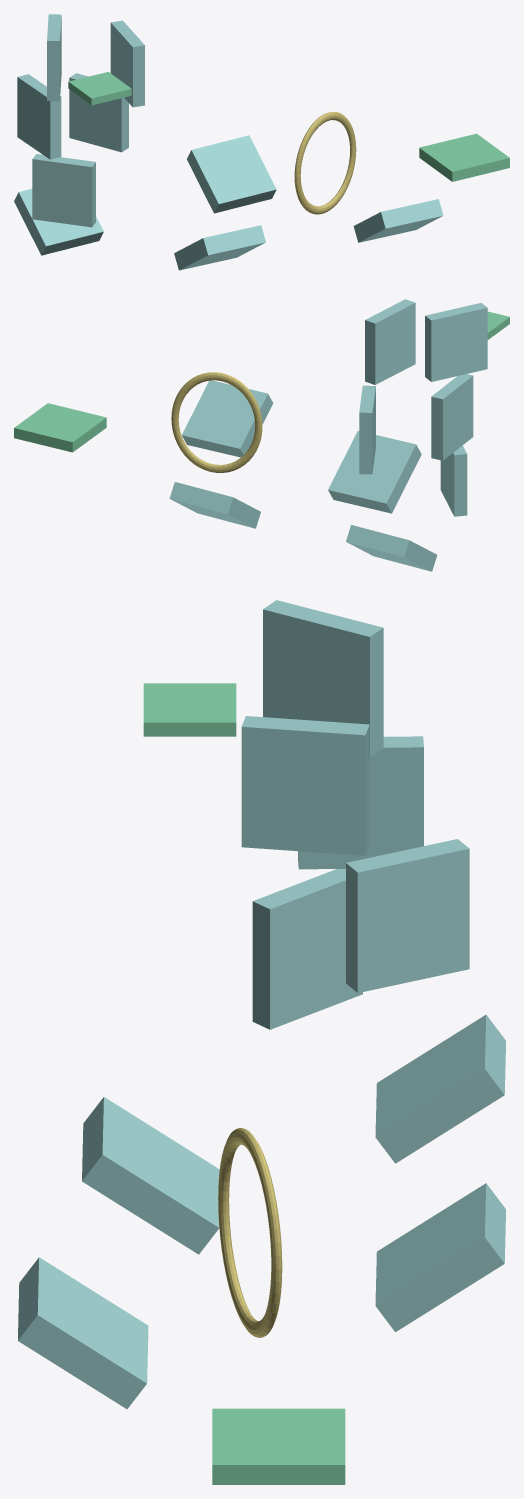
Rendered from scene_jump4.dae.
3 views of the same model, one above another, from view 1: azimuth 30°, elevation 25°; view 2: azimuth 150°, elevation 25°; view 3: azimuth 270°, elevation 25° (orthographic). The views are drawn at different scales.
Parts seen in each view (by area): view 1: Cube_002, Cube_005, Cube_006, Cube_004, Cube_003, Cube_008, Cube_007, Cube_001, Cube, Torus, Cube_010, Cube_009; view 2: Cube_001, Cube, Cube_009, Cube_007, Cube_006, Cube_003, Torus, Cube_002, Cube_008, Cube_005, Cube_004, Cube_010; view 3: Cube_007, Cube_004, Cube_009, Cube_005, Cube_001, Cube, Cube_002, Cube_008, Cube_003, Cube_006, Torus, Cube_010.
Boxes of the visible parts, <box> form: Cube_002: <box>187,135,276,213</box>; Cube_005: <box>32,154,95,227</box>; Cube_006: <box>17,74,61,159</box>; Cube_004: <box>69,73,128,152</box>; Cube_003: <box>419,133,509,181</box>; Cube_008: <box>14,189,103,255</box>; Cube_007: <box>110,20,144,107</box>; Cube_001: <box>174,225,265,270</box>; Cube: <box>353,199,443,242</box>; Torus: <box>294,111,356,214</box>; Cube_010: <box>68,72,131,105</box>; Cube_009: <box>47,14,61,101</box>; Cube_001: <box>328,431,421,513</box>; Cube: <box>182,380,273,457</box>; Cube_009: <box>425,303,487,381</box>; Cube_007: <box>365,299,415,384</box>; Cube_006: <box>431,374,473,460</box>; Cube_003: <box>14,403,106,452</box>; Torus: <box>171,372,262,472</box>; Cube_002: <box>169,482,260,528</box>; Cube_008: <box>346,525,437,571</box>; Cube_005: <box>440,445,467,516</box>; Cube_004: <box>359,385,375,474</box>; Cube_010: <box>487,311,509,339</box>; Cube_007: <box>241,716,369,855</box>; Cube_004: <box>346,839,469,992</box>; Cube_009: <box>263,600,383,757</box>; Cube_005: <box>252,869,362,1029</box>; Cube_001: <box>82,1097,219,1254</box>; Cube: <box>18,1257,148,1409</box>; Cube_002: <box>375,1183,505,1331</box>; Cube_008: <box>375,1015,505,1163</box>; Cube_003: <box>212,1408,345,1484</box>; Cube_006: <box>298,736,423,869</box>; Torus: <box>218,1128,282,1337</box>; Cube_010: <box>143,683,236,736</box>.
Size of the model in its own units: 15.52 by 7.34 by 8.1.
